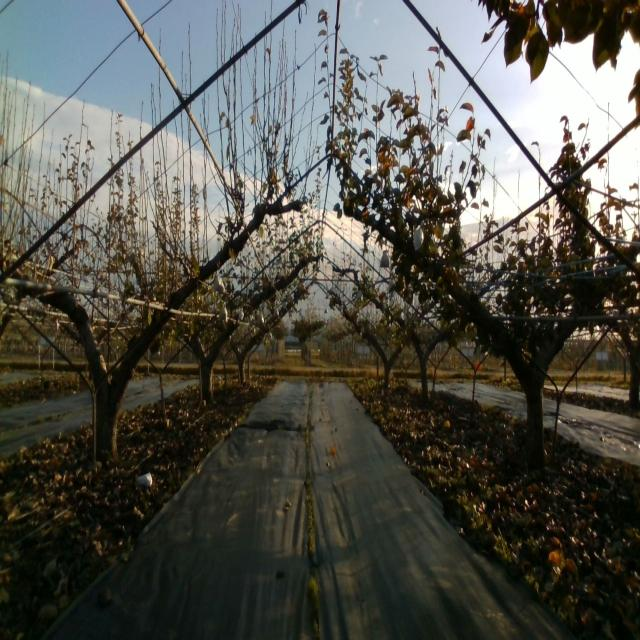pearbags: (412, 225, 425, 251)
